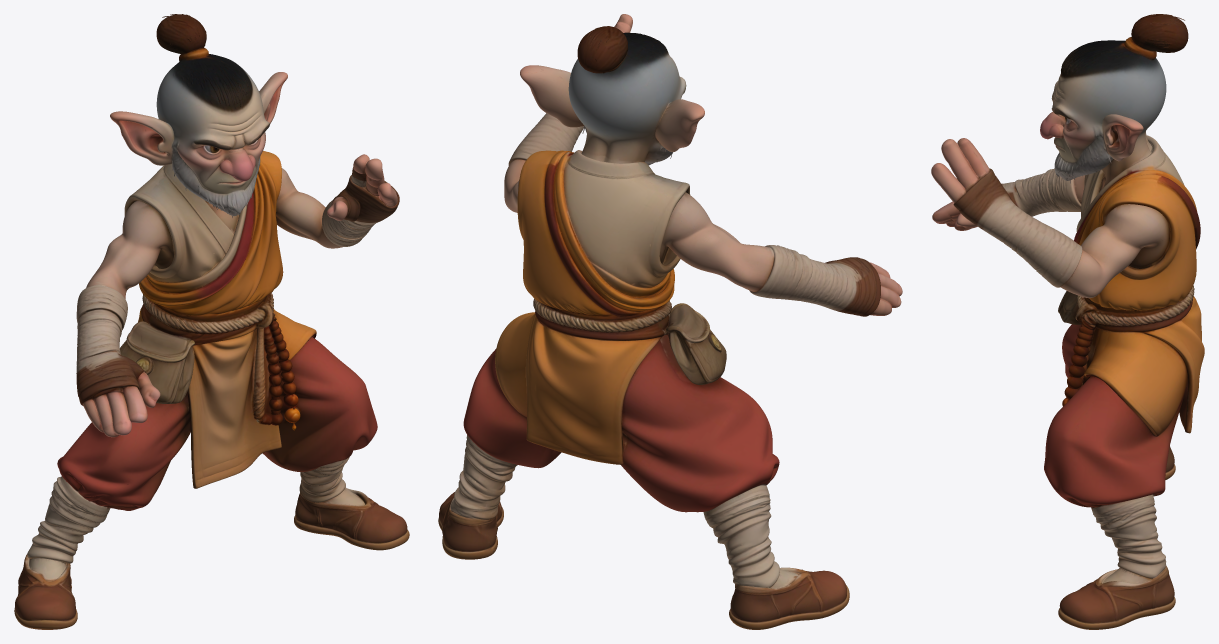
File: gnome_monk_full_male_01.glb
The picture shows the model from 3 angles, left to right: view 1: azimuth 30°, elevation 25°; view 2: azimuth 150°, elevation 25°; view 3: azimuth 270°, elevation 25°; orthographic projection. The views are drawn at different scales.
Parts seen in each view (by area): view 1: material; view 2: material; view 3: material.
Part boxes in pixels (x1,y1,x2,y2): material: (14,14,409,629); material: (438,14,902,629); material: (931,14,1204,629).
Size of the model in its own units: 0.7236 by 0.9627 by 0.455.
Materials: 1 (1 with a texture image).
